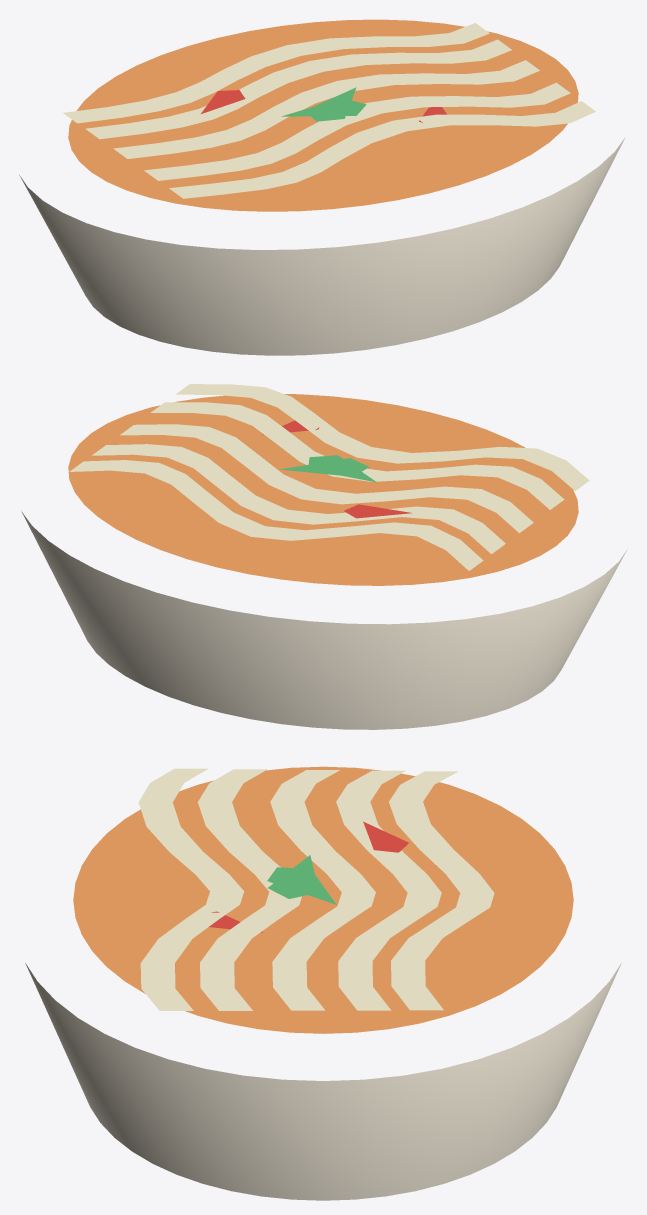
File: laksa_bowl.gltf
The picture shows the model from 3 angles, top to bottom: view 1: azimuth 30°, elevation 25°; view 2: azimuth 150°, elevation 25°; view 3: azimuth 270°, elevation 25°; orthographic projection. The views are drawn at different scales.
Parts seen in each view (by area): view 1: Laksa bowl; view 2: Laksa bowl; view 3: Laksa bowl.
Boxes of the visible parts, x1,y1,x2,y2 form: Laksa bowl: [19, 19, 625, 355]; Laksa bowl: [21, 384, 627, 729]; Laksa bowl: [25, 766, 621, 1200].
Size of the model in its own units: 1.16 by 0.327 by 0.94.
